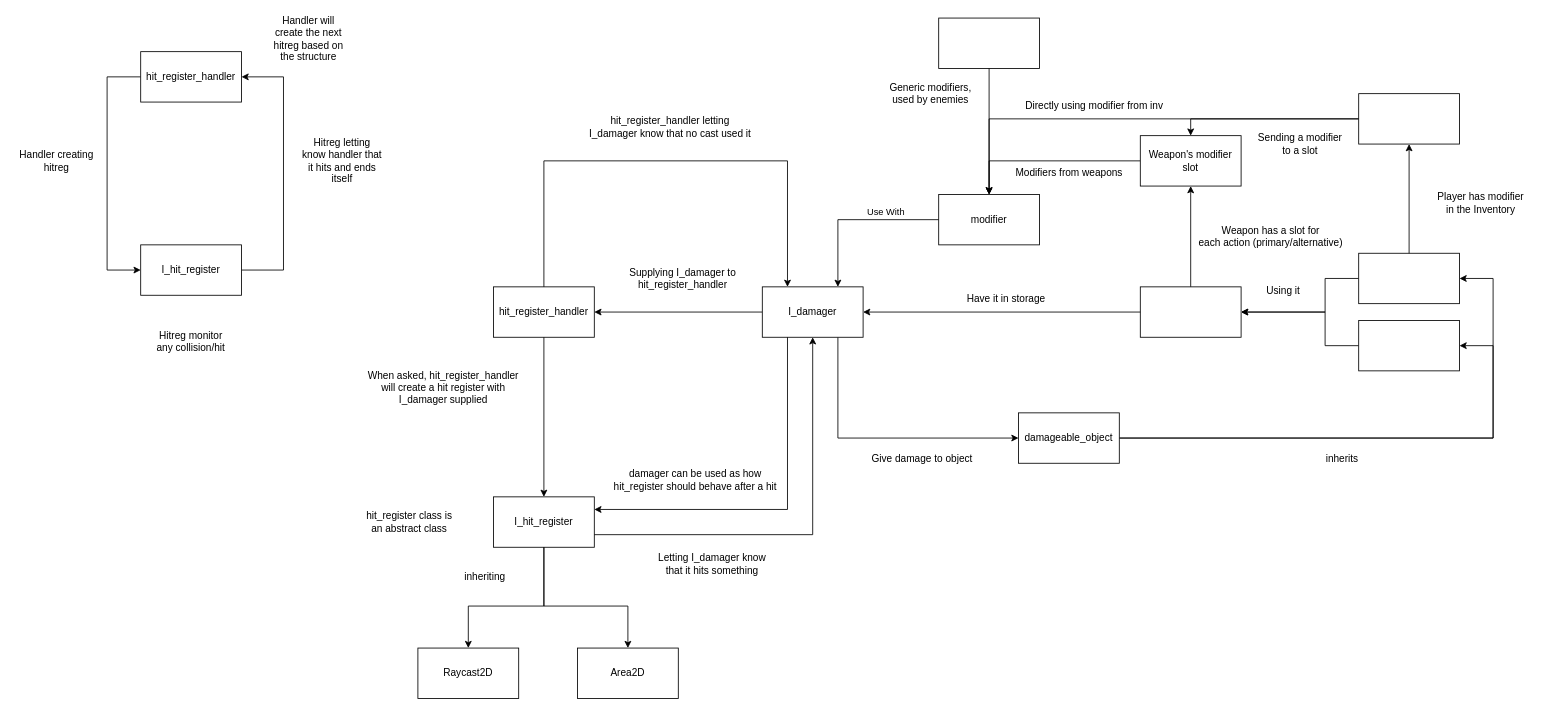
Image size: 1549x713. Some labels were removed from this diagram. Here are the shapes that lost their labels. From the top down, the box of each, then its label:
(938, 17, 1040, 68): Generic modifier
(1358, 93, 1460, 144): Player Inventory
(1358, 252, 1460, 304): pinbox
(1139, 286, 1241, 337): Action/Weapon
(1358, 320, 1460, 371): enemy
